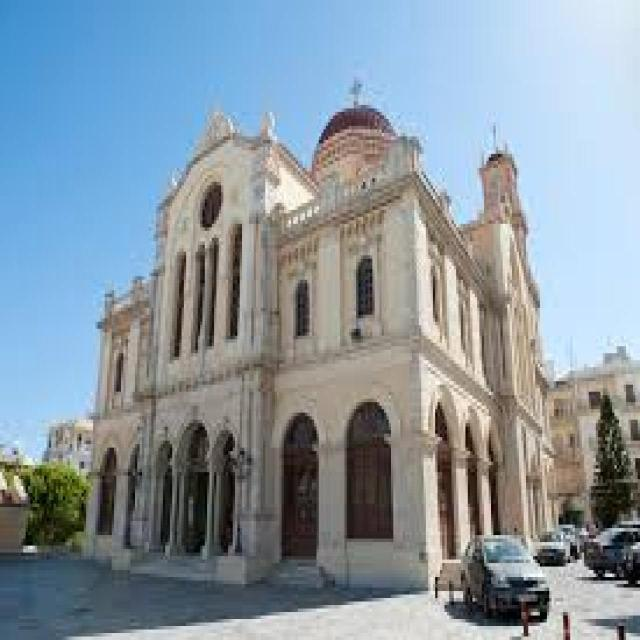Agios Minas: (77, 10, 563, 574)
